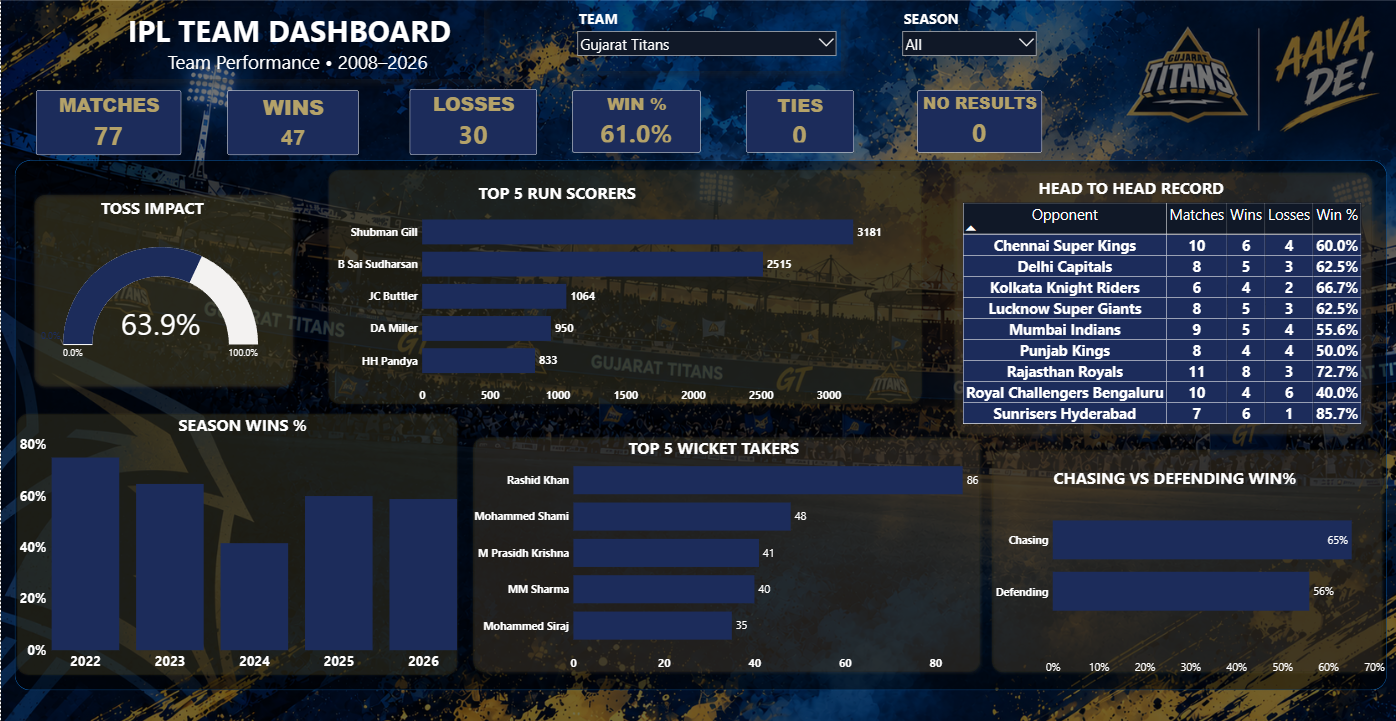

Layout of this report page (visuals, bound fields, positions):
{"tool":"powerbi","page":{"name":"Page 1","canvas":[2800,1450],"ordinal":0},"visuals":[{"type":"image","box":[0,2.3,2800,1448.5],"z":0},{"type":"shape","box":[0,2.3,2800,1448.5],"z":1000},{"type":"shape","box":[27.2,322.3,2744.3,1060],"z":2000},{"type":"shape","box":[56.7,383.6,535.7,401.8],"z":2500},{"type":"shape","box":[649.2,338.2,1196.2,476.7],"z":2750},{"type":"shape","box":[935.6,868.6,1032.7,487.5],"z":2875},{"type":"shape","box":[27.2,824,889.8,531.2],"z":2937},{"type":"shape","box":[1897.6,338.2,853.5,542.5],"z":2968},{"type":"shape","box":[1972.5,892.1,799,463.1],"z":2984},{"type":"slicer","fields":{"Values":["Dim_Team.Team_Name"]},"box":[1143.6,13.9,538.3,129.4],"z":3000},{"type":"slicer","fields":{"Values":["Dim_Date.Year"]},"box":[1792.7,13.9,288.8,129.4],"z":4000},{"type":"textbox","box":[219.5,18.5,746.2,143.2],"z":5000},{"type":"cardVisual","title":"MATCHES","fields":{"Data":["Dim_Date.Matches Played"]},"box":[70.4,181.6,290.5,129.4],"z":6000},{"type":"cardVisual","title":"WINS","fields":{"Data":["Fact_Match.Wins"]},"box":[452.8,182.5,263.4,129.4],"z":8000},{"type":"cardVisual","title":"LOSSES","fields":{"Data":["Fact_Match.Losses"]},"box":[817.2,179.3,254.2,131.7],"z":9000},{"type":"cardVisual","title":"WIN %","fields":{"Data":["Fact_Match.Win %"]},"box":[1143.6,182.5,256.4,124.8],"z":10000},{"type":"cardVisual","title":"TIES","fields":{"Data":["Fact_Match.Ties"]},"box":[1489,181.6,215.6,124.8],"z":11000},{"type":"cardVisual","title":"NO RESULTS","fields":{"Data":["Fact_Match.No Results"]},"box":[1832,182.5,249.5,124.8],"z":12000},{"type":"clusteredBarChart","title":"Top 5 Run Scorers","fields":{"Y":["Dim_Date.Total Runs"],"Category":["Fact_Ball.batter"]},"box":[667.3,401.8,1125.9,415.4],"z":13000},{"type":"clusteredBarChart","title":"Top 5 Wicket Takers","fields":{"Category":["Fact_Ball.bowler"],"Y":["Fact_Ball.Total Wickets"]},"box":[940.3,891.7,1032.7,462],"z":14000},{"type":"tableEx","title":"HEAD-TO-HEAD RECORD","fields":{"Values":["H2H Opponents.Opponent","Dim_Date.H2H Matches","Dim_Date.H2H Wins","Dim_Date.H2H Losses","Dim_Date.H2H Win %"]},"box":[1918.1,401.8,810.4,469.9],"z":15000},{"type":"clusteredBarChart","title":"Chasing vs Defending","fields":{"Category":["Match Situation.Situation"],"Y":["Match Situation.Situation Win %"]},"box":[1988.4,937.5,783.1,419.9],"z":16000},{"type":"clusteredColumnChart","title":"Season Wins","fields":{"Y":["Dim_Date.Season Win %"],"Category":["Dim_Date.Year"]},"box":[32.3,868.6,884.8,485.1],"z":17000},{"type":"gauge","title":"Toss Impact","fields":{"Y":["Dim_Date.Toss Win Match %"]},"box":[70.4,474.4,449.4,272.4],"z":18000},{"type":"textbox","box":[196,390,301.9,72.6],"z":19000},{"type":"textbox","box":[950,360,397.2,81.7],"z":20000},{"type":"textbox","box":[2070,350,492.6,145.3],"z":21000},{"type":"textbox","box":[350,825,300,300],"z":22000},{"type":"textbox","box":[1250,870,399.7,83.2],"z":23000},{"type":"textbox","box":[2100,930,559.1,122.4],"z":24000}]}

Visuals, with their boxes in screenshot pixels (x1, y1, x2, y2), scaled from the page's 2800x1450 canvas onto the 1396x721 screenshot:
image: <bbox>0, 1, 1395, 720</bbox>
shape: <bbox>0, 1, 1395, 720</bbox>
shape: <bbox>14, 160, 1382, 687</bbox>
shape: <bbox>28, 191, 295, 391</bbox>
shape: <bbox>324, 168, 920, 405</bbox>
shape: <bbox>466, 432, 981, 674</bbox>
shape: <bbox>14, 410, 457, 674</bbox>
shape: <bbox>946, 168, 1372, 438</bbox>
shape: <bbox>983, 444, 1382, 674</bbox>
slicer - Dim_Team.Team_Name: <bbox>570, 7, 839, 71</bbox>
slicer - Dim_Date.Year: <bbox>894, 7, 1038, 71</bbox>
textbox: <bbox>109, 9, 481, 80</bbox>
"MATCHES" cardVisual: <bbox>35, 90, 180, 155</bbox>
"WINS" cardVisual: <bbox>226, 91, 357, 155</bbox>
"LOSSES" cardVisual: <bbox>407, 89, 534, 155</bbox>
"WIN %" cardVisual: <bbox>570, 91, 698, 153</bbox>
"TIES" cardVisual: <bbox>742, 90, 850, 152</bbox>
"NO RESULTS" cardVisual: <bbox>913, 91, 1038, 153</bbox>
"Top 5 Run Scorers" clusteredBarChart: <bbox>333, 200, 894, 406</bbox>
"Top 5 Wicket Takers" clusteredBarChart: <bbox>469, 443, 984, 673</bbox>
"HEAD-TO-HEAD RECORD" tableEx: <bbox>956, 200, 1360, 433</bbox>
"Chasing vs Defending" clusteredBarChart: <bbox>991, 466, 1382, 675</bbox>
"Season Wins" clusteredColumnChart: <bbox>16, 432, 457, 673</bbox>
"Toss Impact" gauge: <bbox>35, 236, 259, 371</bbox>
textbox: <bbox>98, 194, 248, 230</bbox>
textbox: <bbox>474, 179, 672, 220</bbox>
textbox: <bbox>1032, 174, 1278, 246</bbox>
textbox: <bbox>174, 410, 324, 559</bbox>
textbox: <bbox>623, 433, 822, 474</bbox>
textbox: <bbox>1047, 462, 1326, 523</bbox>
